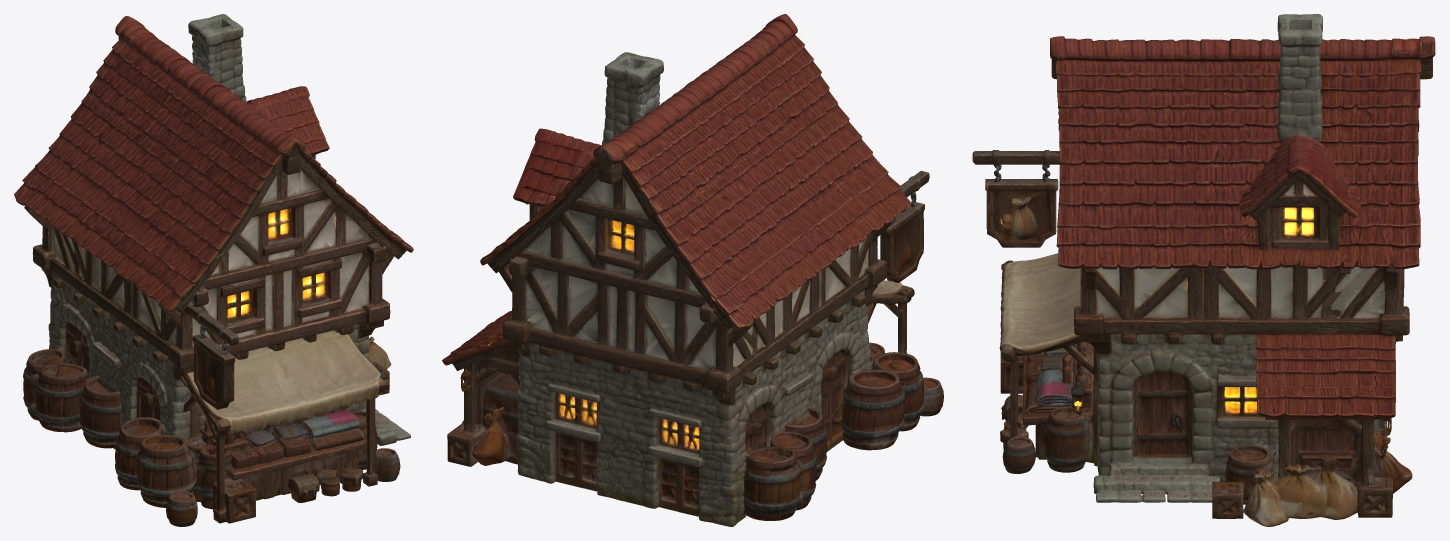
Rendered from OakHillStore_300k.glb.
3 views of the same model, side by side, from view 1: azimuth 30°, elevation 25°; view 2: azimuth 150°, elevation 25°; view 3: azimuth 270°, elevation 25° (orthographic). The views are drawn at different scales.
Visible parts, largest first — view 1: Mesh_0; view 2: Mesh_0; view 3: Mesh_0.
Boxes of the visible parts, bbox=[...] form: Mesh_0: bbox=[14, 14, 413, 526]; Mesh_0: bbox=[442, 14, 943, 526]; Mesh_0: bbox=[972, 14, 1435, 526].
Bounding box in the file's own units: 1.77 × 1.9 × 1.89.
Materials: 1 (1 with a texture image).
